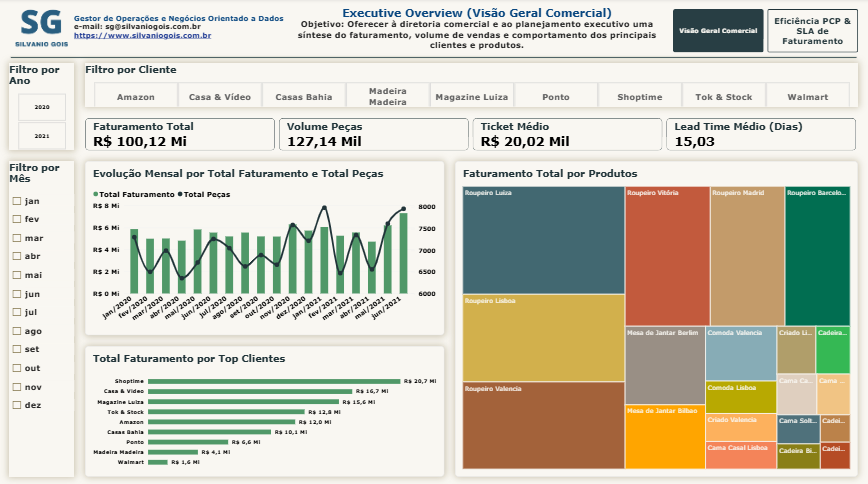

Layout of this report page (visuals, bound fields, positions):
{"tool":"powerbi","page":{"name":"Visão Geral Comercial","canvas":[1920,1080],"ordinal":0},"visuals":[{"type":"image","box":[24,0,144,120],"z":0},{"type":"textbox","box":[168,0,480,120],"z":1000},{"type":"textbox","box":[648,0,816,120],"z":2000},{"type":"pageNavigator","box":[1488,24,408,96],"z":3000},{"type":"shape","box":[24,120,1872,24],"z":4000},{"type":"slicer","title":"Filtro por Mês","fields":{"Values":["dCalendario.Mês"]},"box":[24,360,144,696],"z":5000},{"type":"slicer","title":"Filtro por Ano","fields":{"Values":["dCalendario.Ano"]},"box":[24,144,144,192],"z":6000},{"type":"slicer","title":"Filtro por Cliente","fields":{"Values":["fVendas.Cliente"]},"box":[192,144,1704,96],"z":7000},{"type":"cardVisual","fields":{"Data":["MedidasBase.Total Faturamento","MedidasBase.Total Peças","MedidasBase.Ticket Médio","MedidasOperacionaisPCP.Lead Time Médio"]},"box":[192,264,1704,72],"z":8000},{"type":"lineStackedColumnComboChart","title":"Evolução Mensal por Total Faturamento e Total Peças","fields":{"Category":["dCalendario.Mês/Ano"],"Y":["MedidasBase.Total Faturamento"],"Y2":["MedidasBase.Total Peças"]},"box":[192,360,792,384],"z":9000},{"type":"barChart","title":"Total Faturamento por Top Clientes","fields":{"Category":["fVendas.Cliente"],"Y":["MedidasBase.Total Faturamento"]},"box":[192,768,792,288],"z":10000},{"type":"treemap","title":"Faturamento Total por Produtos","fields":{"Group":["fVendas.Produto"],"Values":["MedidasBase.Total Faturamento"]},"box":[1008,360,888,696],"z":11000}]}

Visuals, with their boxes in screenshot pixels (x1, y1, x2, y2), scaled from the page's 1920x1080 canvas onto the 868x484 screenshot:
image: BBox(11, 0, 76, 54)
textbox: BBox(76, 0, 293, 54)
textbox: BBox(293, 0, 662, 54)
pageNavigator: BBox(673, 11, 857, 54)
shape: BBox(11, 54, 857, 65)
"Filtro por Mês" slicer: BBox(11, 161, 76, 473)
"Filtro por Ano" slicer: BBox(11, 65, 76, 151)
"Filtro por Cliente" slicer: BBox(87, 65, 857, 108)
cardVisual - MedidasBase.Total Faturamento x MedidasBase.Total Peças: BBox(87, 118, 857, 151)
"Evolução Mensal por Total Faturamento e Total Peças" lineStackedColumnComboChart: BBox(87, 161, 445, 333)
"Total Faturamento por Top Clientes" barChart: BBox(87, 344, 445, 473)
"Faturamento Total por Produtos" treemap: BBox(456, 161, 857, 473)
